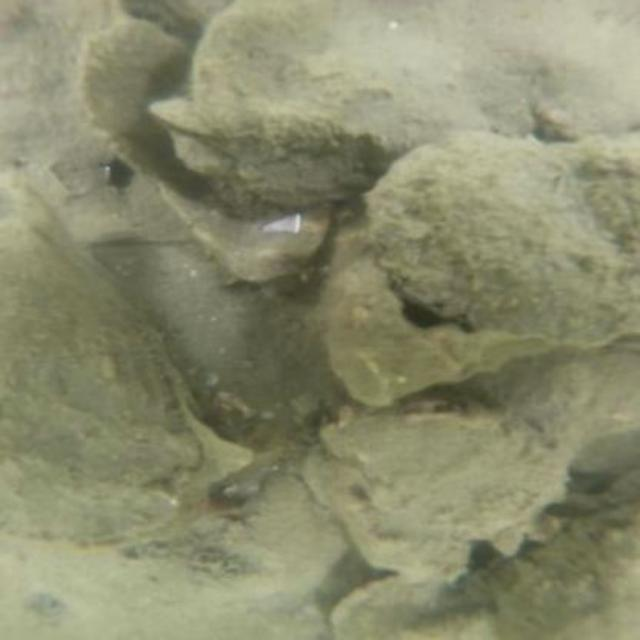Oyster-Closed: (72, 20, 336, 286), (0, 182, 196, 538), (369, 135, 619, 348), (187, 1, 493, 152), (313, 404, 575, 579), (91, 474, 336, 605), (162, 109, 427, 206), (470, 353, 636, 469)
Oyster-Open: (315, 228, 571, 412)
